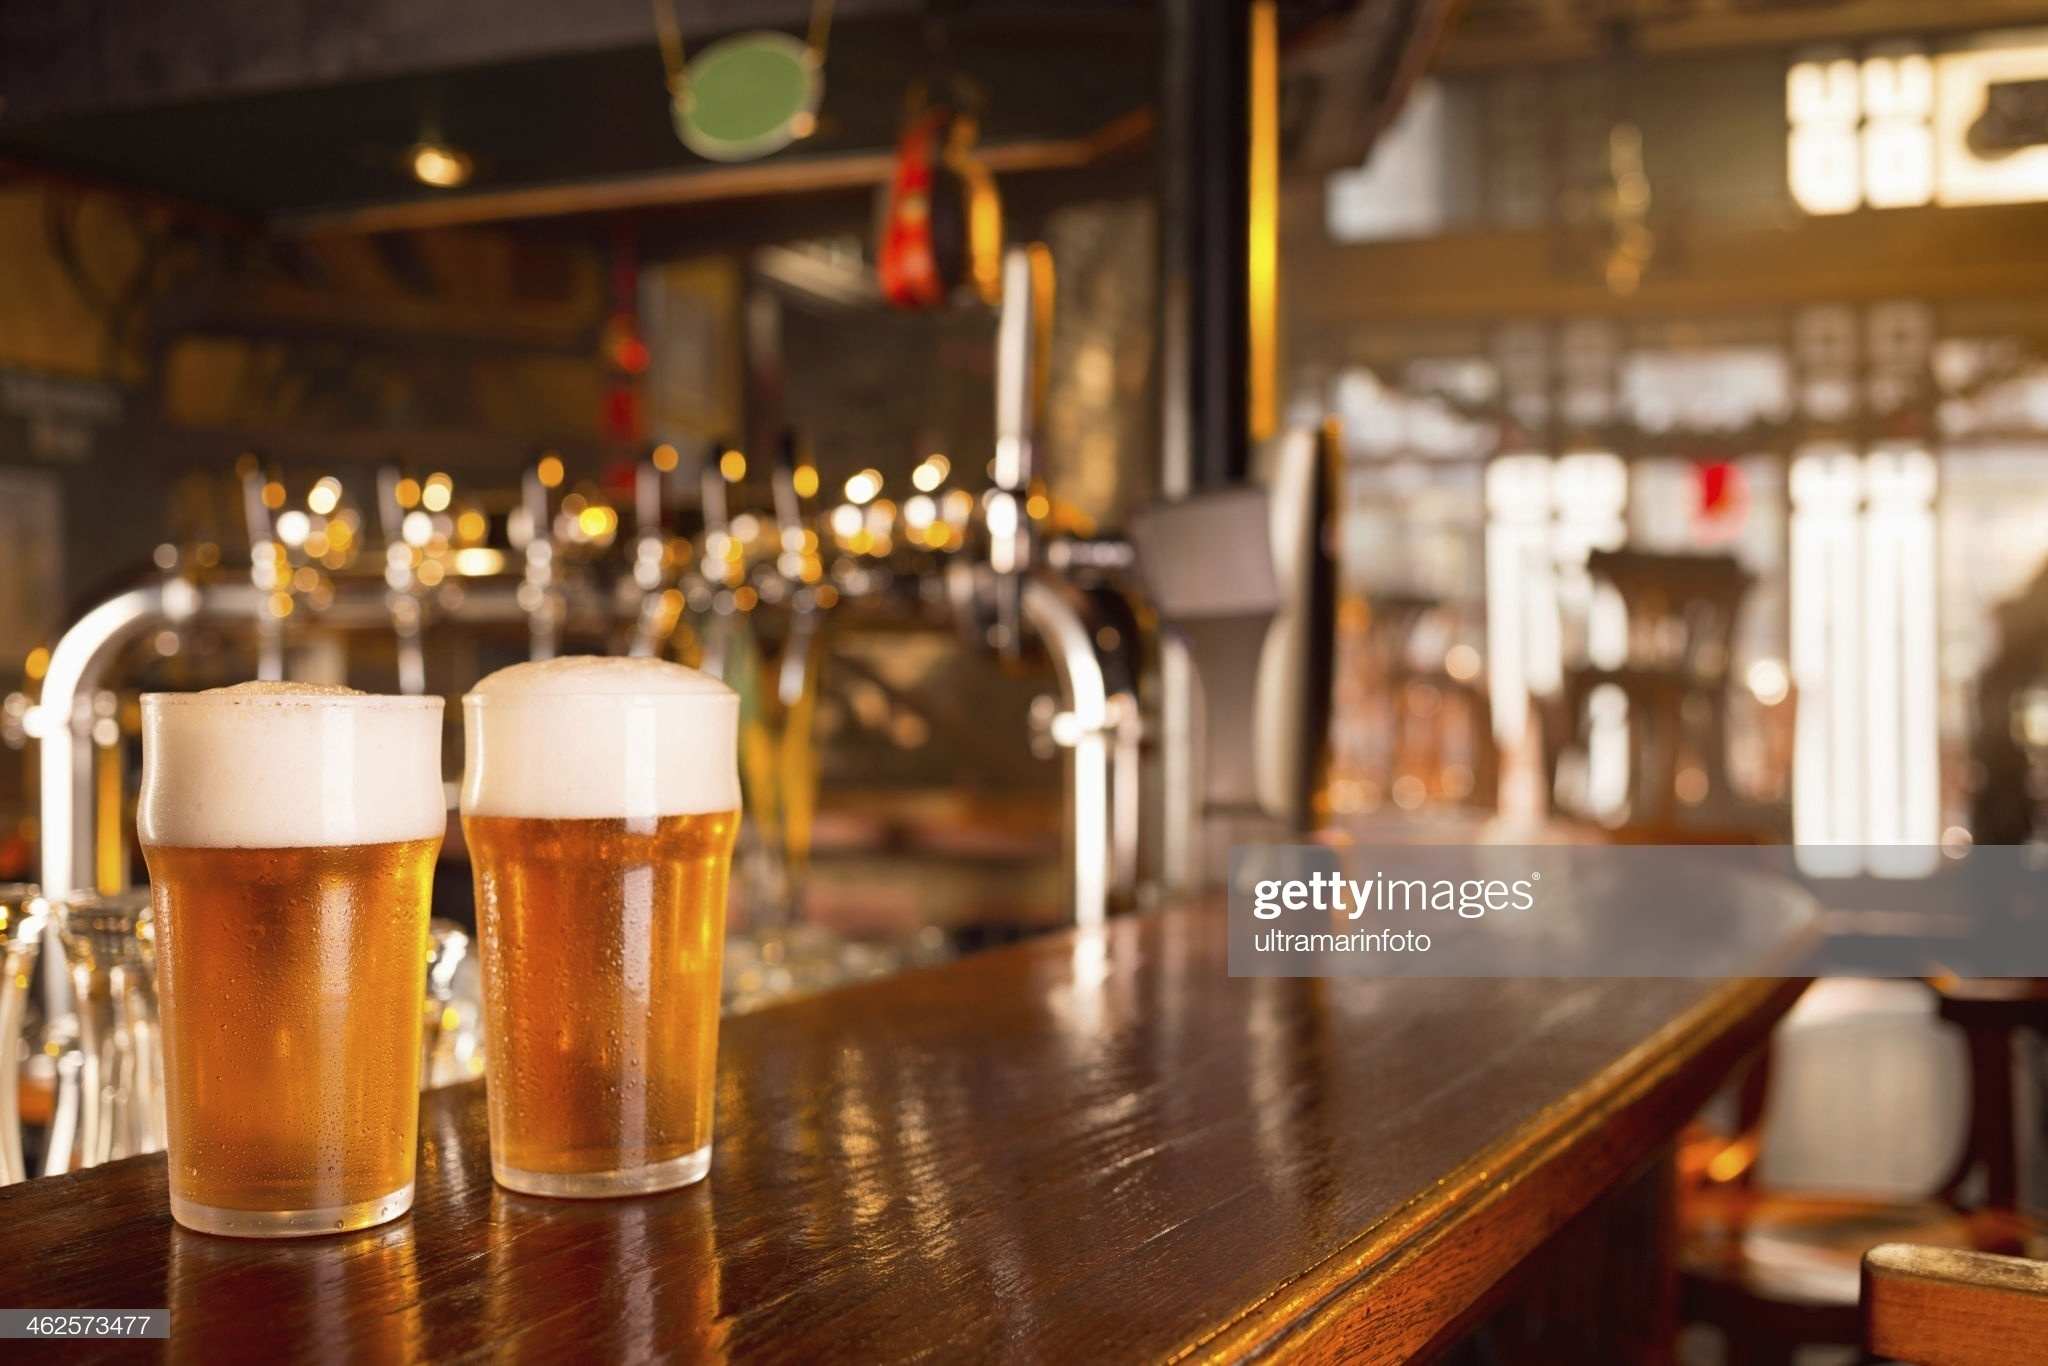whiskey: (140, 701, 440, 1223), (489, 685, 741, 1210)
